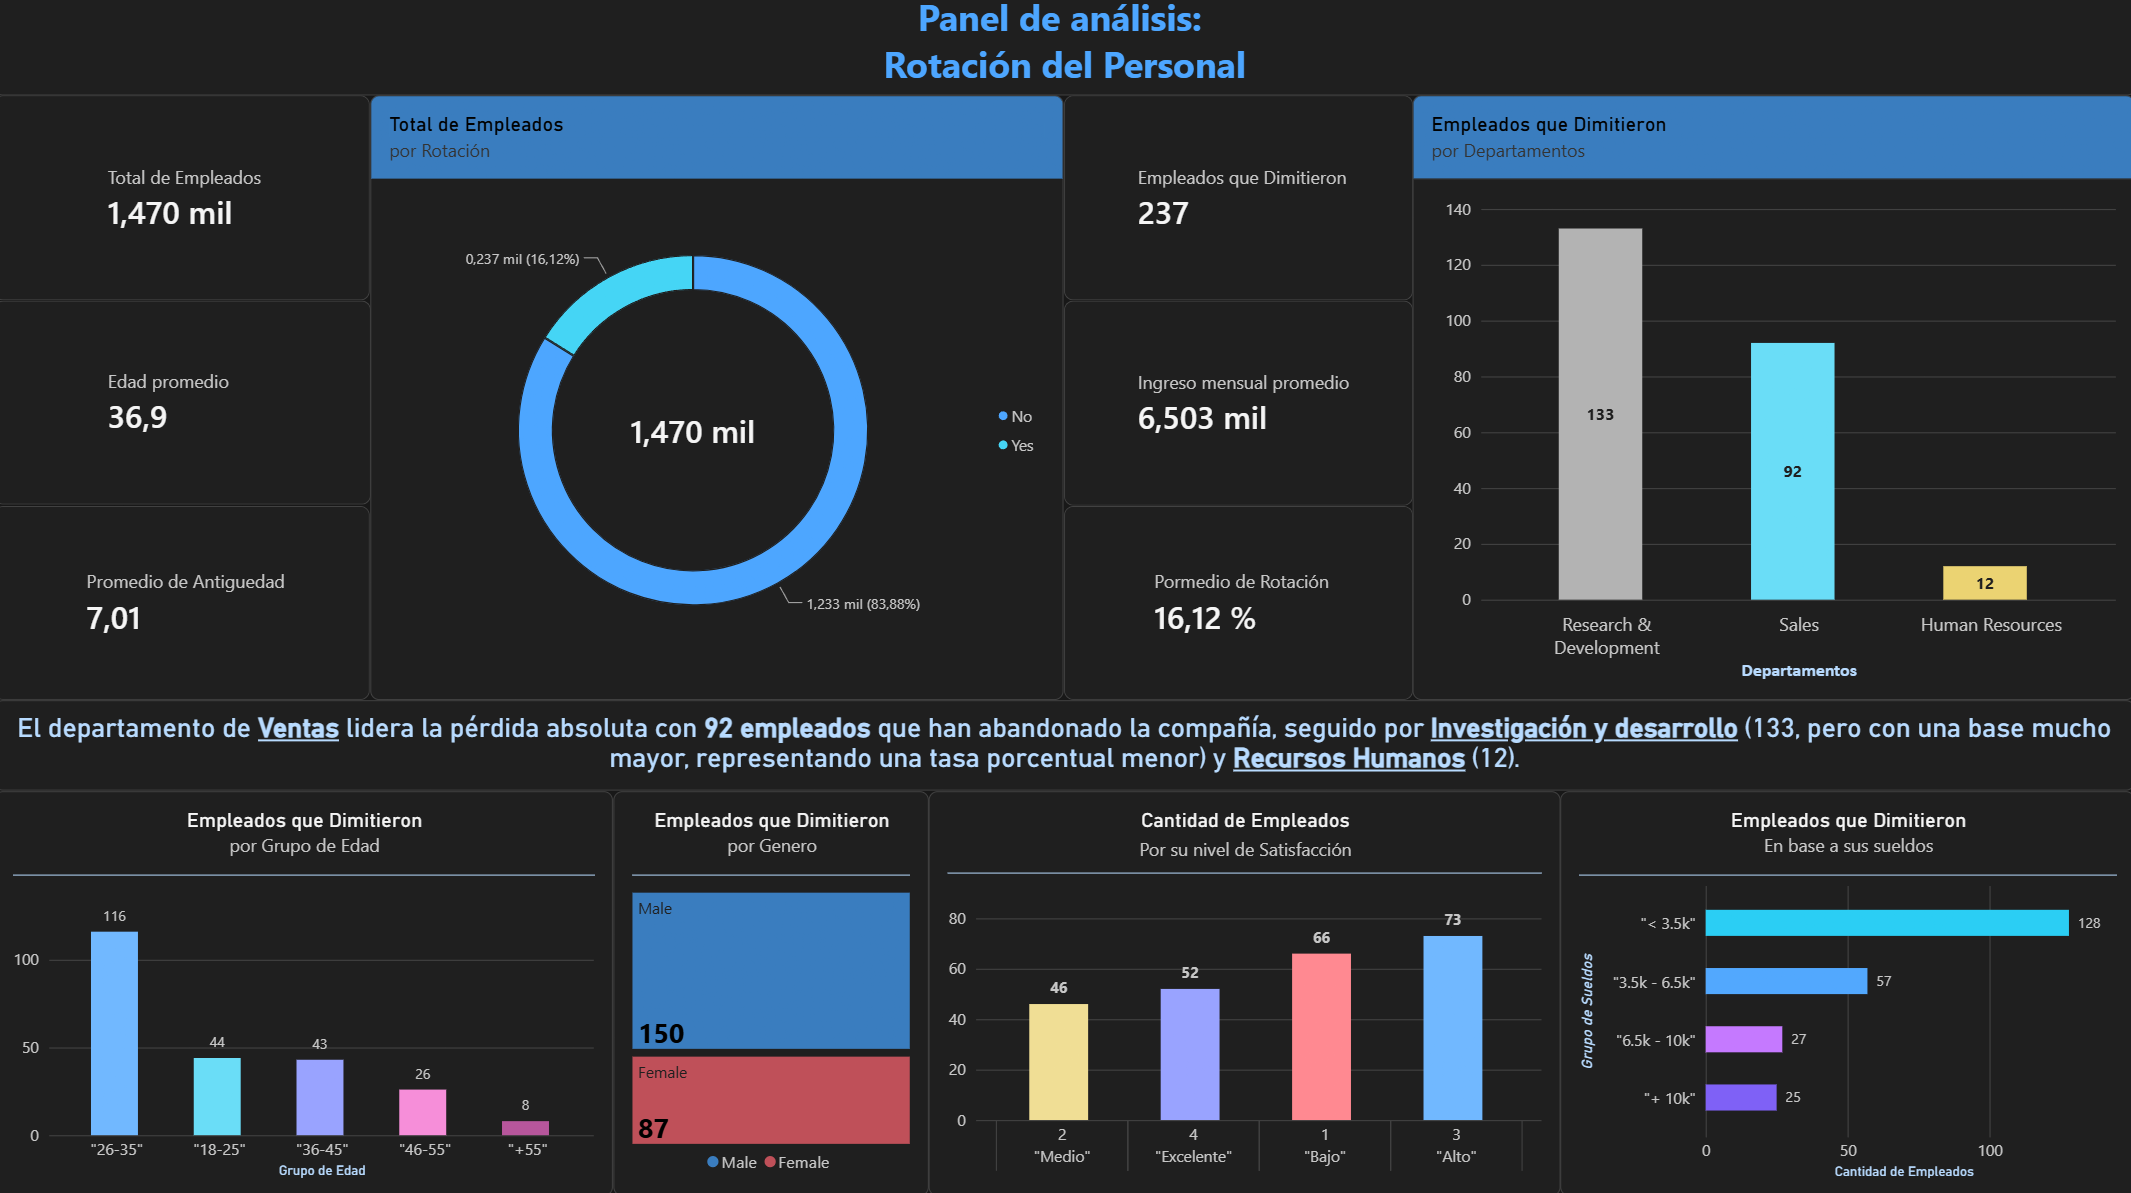

This screenshot's page, from the dashboard's own definition file:
{"tool":"powerbi","page":{"name":"Rotación del Personal","canvas":[1920,1080],"ordinal":1},"visuals":[{"type":"textbox","box":[0,0,1920.4,93.1],"z":0},{"type":"cardVisual","title":"Titulo","fields":{"Data":["Employees.Total Employees"]},"box":[0,93,337,184],"z":1000},{"type":"cardVisual","fields":{"Data":["Employees.Employees Left"]},"box":[959,93,313,184],"z":2000},{"type":"cardVisual","fields":{"Data":["Employees.Attrition Rate"]},"box":[959,461,313,174],"z":3000},{"type":"cardVisual","fields":{"Data":["Employees.Average Age"]},"box":[0,277,338,183],"z":4000},{"type":"cardVisual","fields":{"Data":["Employees.Average Monthly Income"]},"box":[959,277,313,184],"z":5000},{"type":"cardVisual","fields":{"Data":["Employees.Average Years at Company"]},"box":[0,461,337,174],"z":6000},{"type":"donutChart","fields":{"Category":["Employees.Attrition"],"Y":["Employees.Total Employees"]},"box":[337.1,92.7,621.6,542.6],"z":7000},{"type":"clusteredColumnChart","fields":{"Category":["Employees.Department"],"Y":["Employees.Employees Left"]},"box":[1271.7,92.7,648,542.6],"z":8000},{"type":"textbox","box":[0,635.3,1919.6,81.1],"z":9000},{"type":"clusteredColumnChart","fields":{"Category":["Employees.AgeGroup"],"Y":["Employees.Employees Left"]},"box":[0,716.6,555.3,363.4],"z":10000},{"type":"treemap","fields":{"Group":["Employees.Gender"],"Values":["Employees.Employees Left"]},"box":[555.3,716.6,282.8,363.4],"z":11000},{"type":"clusteredColumnChart","title":"Cantidad de Empleados","fields":{"Category":["Employees.Satisfacción","Employees.JobSatisfaction"],"Y":["Employees.Employees Left"]},"box":[838.1,716.6,566.7,363.4],"z":12000},{"type":"barChart","title":"Empleados que Dimitieron","fields":{"Category":["Employees.IncomeGroup"],"Y":["Employees.Employees Left"]},"box":[1404.8,716.6,515.6,363.4],"z":13000}]}

Visuals, with their boxes in screenshot pixels (x1, y1, x2, y2), scaled from the page's 1920x1080 canvas onto the 2131x1193 screenshot:
textbox: [left=0, top=0, right=2130, bottom=103]
"Titulo" cardVisual: [left=0, top=103, right=374, bottom=306]
cardVisual - Employees.Employees Left: [left=1064, top=103, right=1412, bottom=306]
cardVisual - Employees.Attrition Rate: [left=1064, top=509, right=1412, bottom=701]
cardVisual - Employees.Average Age: [left=0, top=306, right=375, bottom=508]
cardVisual - Employees.Average Monthly Income: [left=1064, top=306, right=1412, bottom=509]
cardVisual - Employees.Average Years at Company: [left=0, top=509, right=374, bottom=701]
donutChart - Employees.Attrition x Employees.Total Employees: [left=374, top=102, right=1064, bottom=702]
clusteredColumnChart - Employees.Department x Employees.Employees Left: [left=1411, top=102, right=2130, bottom=702]
textbox: [left=0, top=702, right=2130, bottom=791]
clusteredColumnChart - Employees.AgeGroup x Employees.Employees Left: [left=0, top=792, right=616, bottom=1192]
treemap - Employees.Gender x Employees.Employees Left: [left=616, top=792, right=930, bottom=1192]
"Cantidad de Empleados" clusteredColumnChart: [left=930, top=792, right=1559, bottom=1192]
"Empleados que Dimitieron" barChart: [left=1559, top=792, right=2130, bottom=1192]
